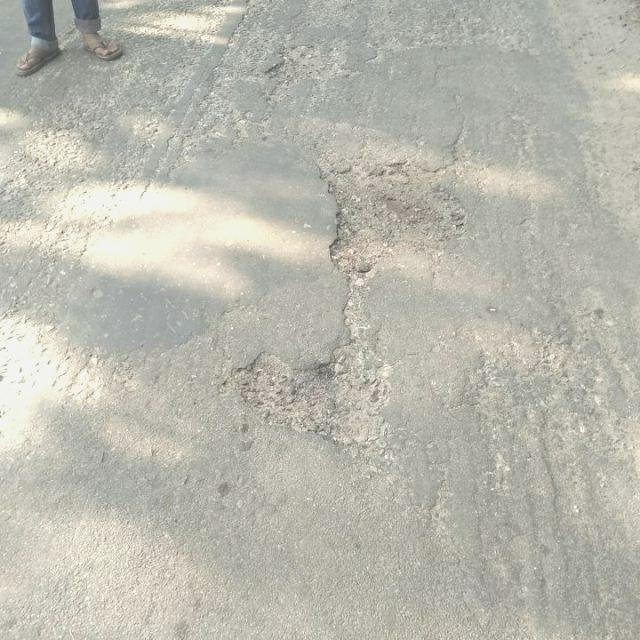Pothole: (323, 155, 472, 279), (244, 338, 391, 460)
